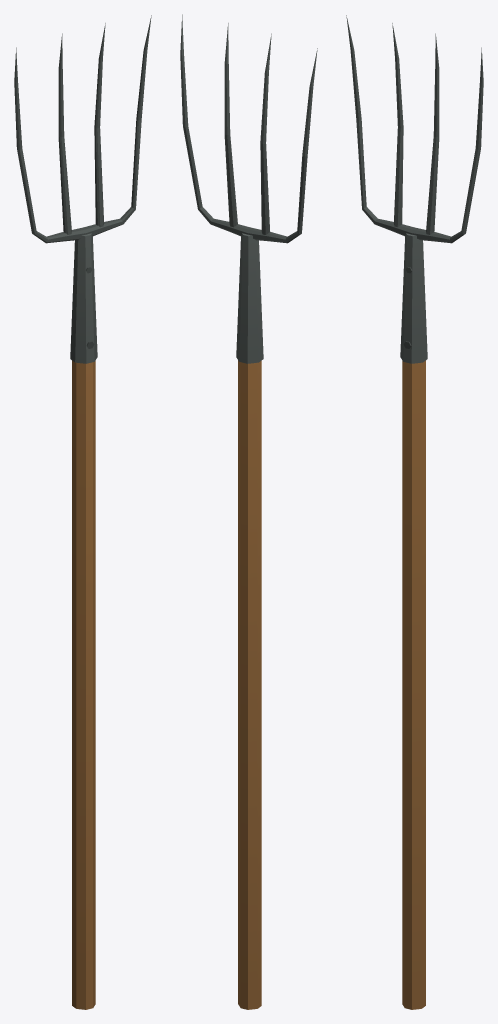
Rendered from Tool_Pitchfork_01.obj.
The picture shows the model from 3 angles, left to right: view 1: azimuth 30°, elevation 25°; view 2: azimuth 150°, elevation 25°; view 3: azimuth 330°, elevation 25°; orthographic projection.
Visible parts, largest first — view 1: Tool_Pitchfork_01; view 2: Tool_Pitchfork_01; view 3: Tool_Pitchfork_01.
Boxes of the visible parts, x1,y1,x2,y2 form: Tool_Pitchfork_01: [14, 15, 151, 1009]; Tool_Pitchfork_01: [180, 14, 317, 1009]; Tool_Pitchfork_01: [346, 15, 483, 1009].
Size of the model in its own units: 0.261 by 1.8 by 0.0445.
Materials: 1 (1 with a texture image).
